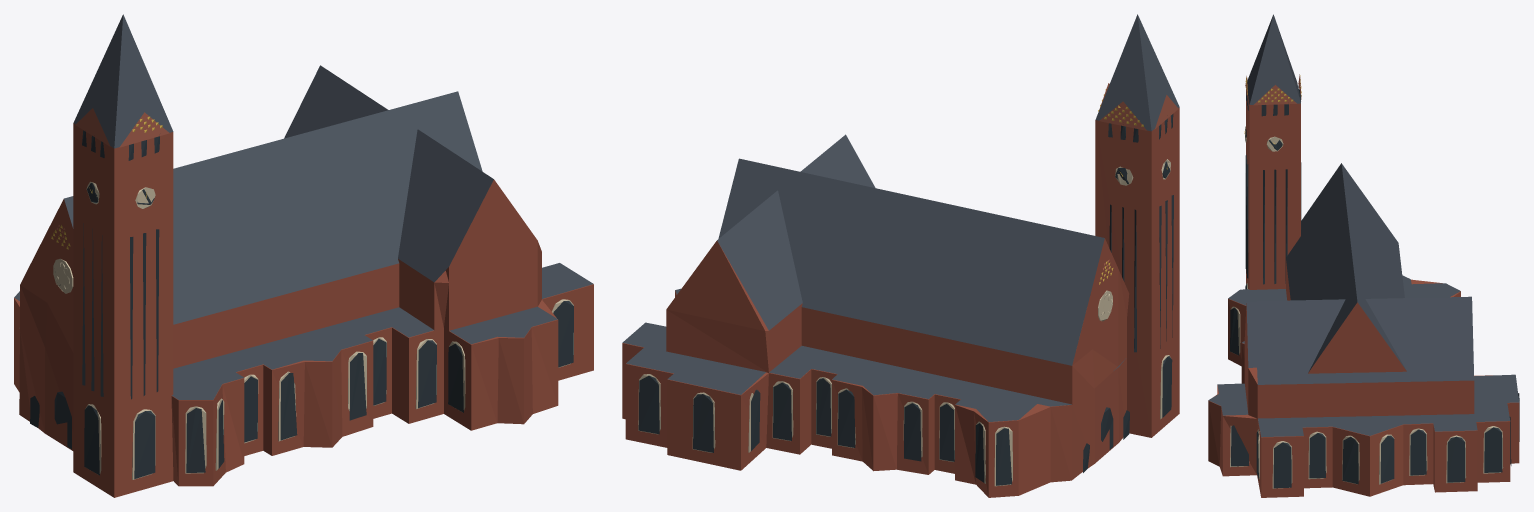
Rendered from vredeskerk.lod1.glb.
3 renders of one model, left to right at view 1: azimuth 30°, elevation 25°; view 2: azimuth 150°, elevation 25°; view 3: azimuth 270°, elevation 25°, orthographic. The views are drawn at different scales.
Visible parts, largest first — view 1: vredeskerk; view 2: vredeskerk; view 3: vredeskerk.
Part boxes in pixels (x1,y1,x2,y2): vredeskerk: (14,14,593,497); vredeskerk: (622,14,1179,497); vredeskerk: (1208,14,1519,497).
Size of the model in its own units: 55.03 by 49 by 42.51.
